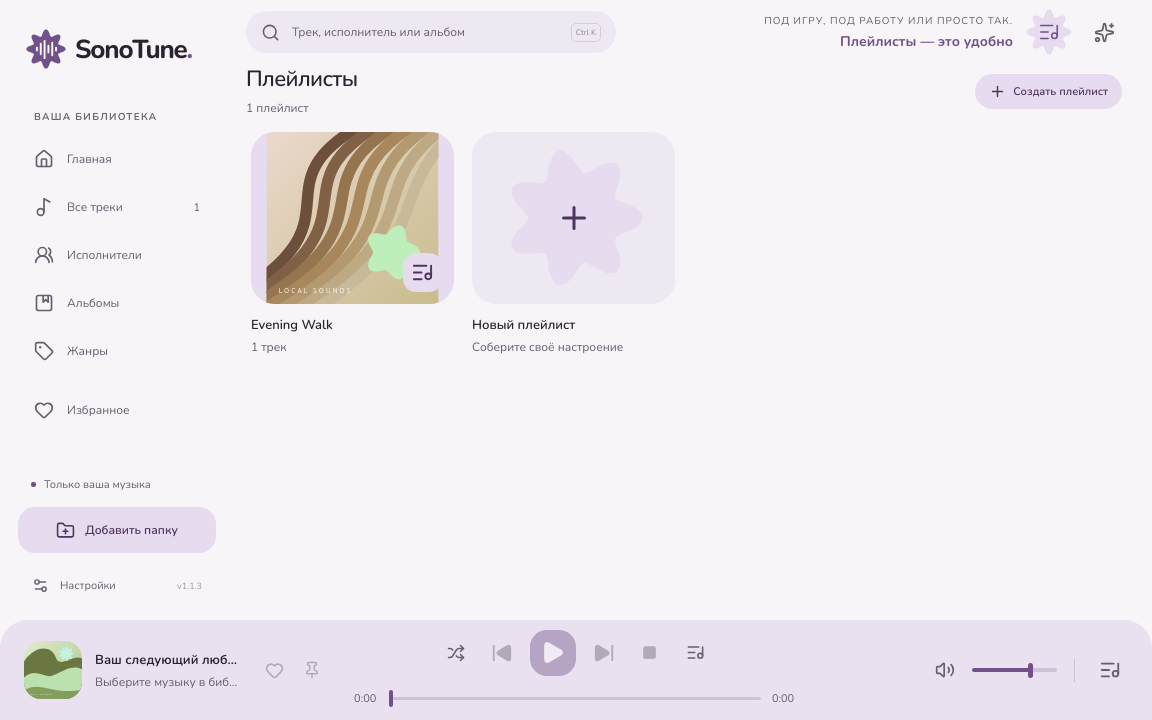
Test: opens a playlist from the overview and keeps the home banner out of the playlist
The width and height of the screenshot is (1152, 720).
Step 1. Click the button "LOCAL SOUNDS Evening Walk 1 трек" → (352, 244), box x1=251 y1=132 x2=454 y2=355
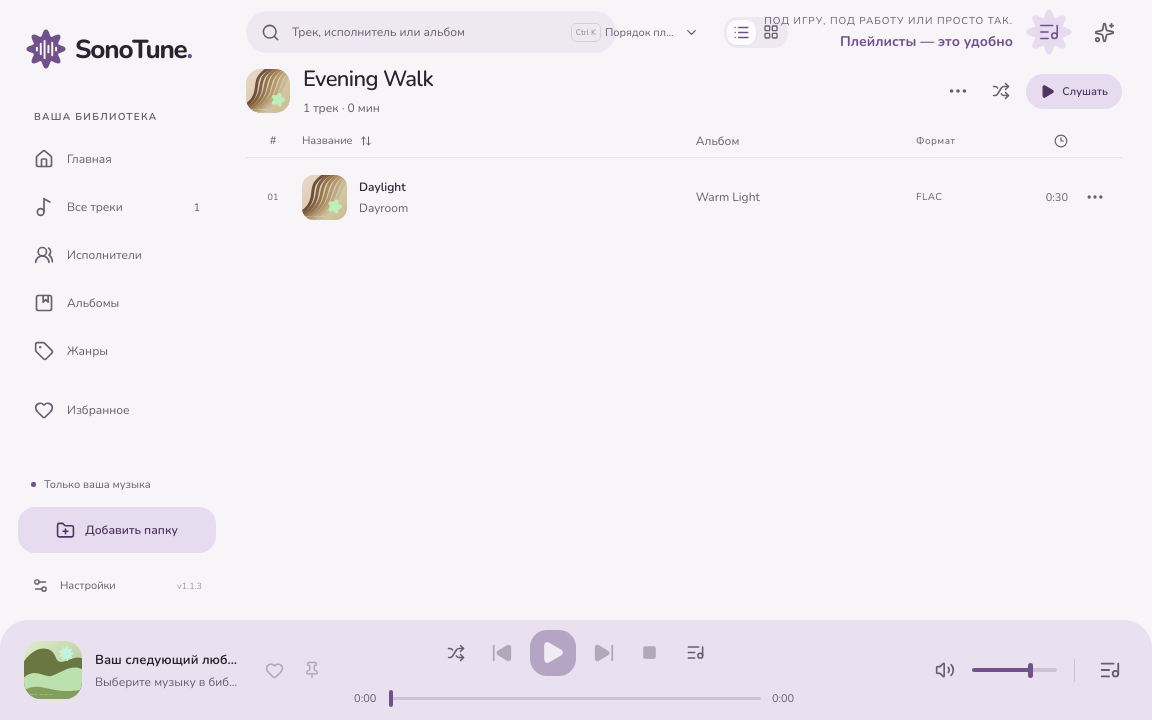
Now the heading "Evening Walk" is shown, box x1=303 y1=64 x2=433 y2=94
Now the table named "Список треков" is shown, box x1=246 y1=124 x2=1122 y2=220
